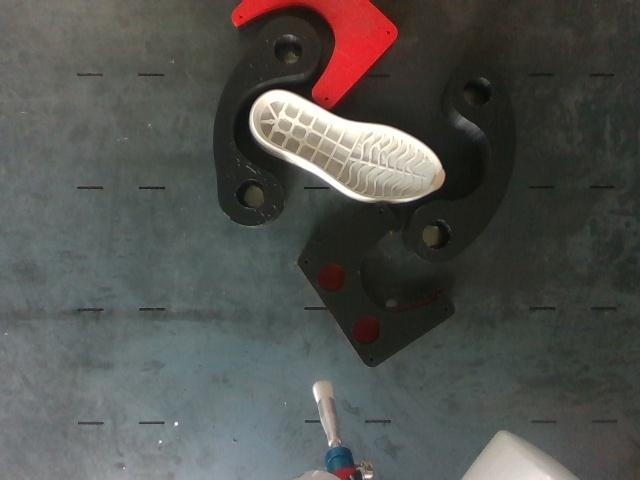shoes: (253, 90, 444, 200)
